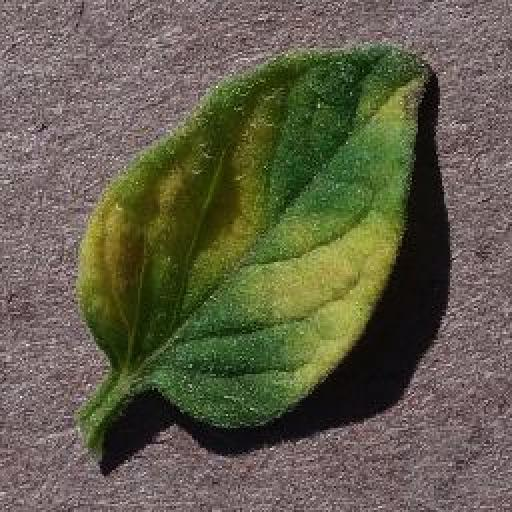disease_tomato: (78, 41, 435, 427)
